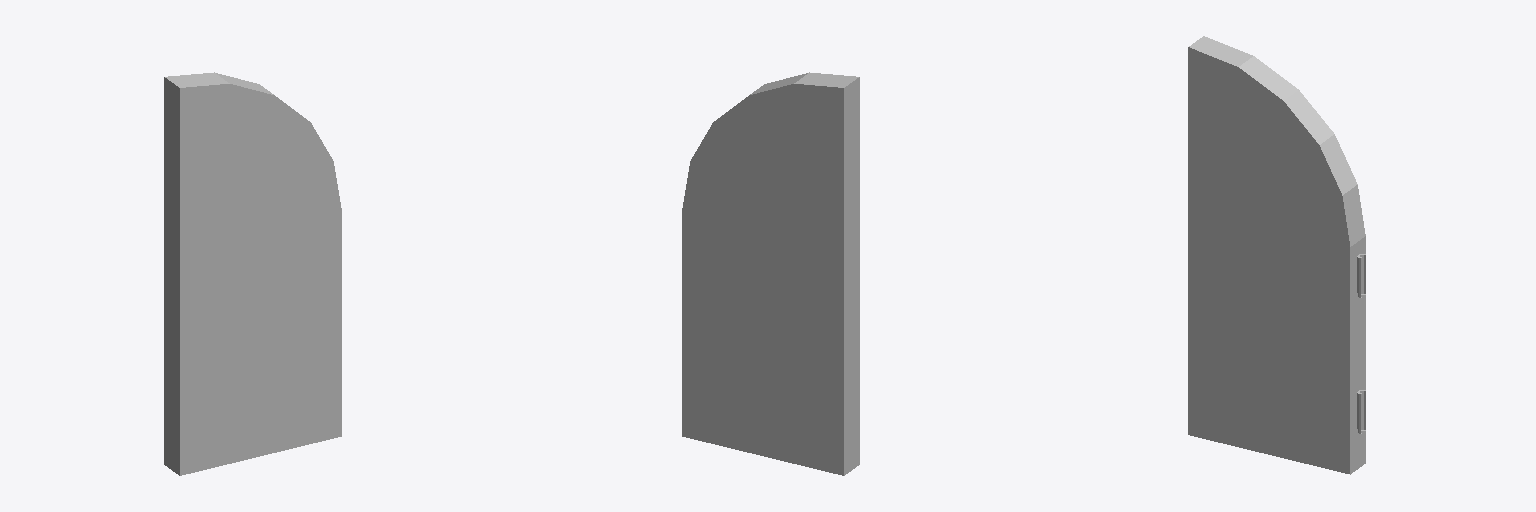
Rendered from castle_doorR.obj.
3 views of the same model, side by side, from view 1: azimuth 30°, elevation 25°; view 2: azimuth 150°, elevation 25°; view 3: azimuth 330°, elevation 25° (orthographic).
Parts seen in each view (by area): view 1: Towers_Doors_and_Windows.002; view 2: Towers_Doors_and_Windows.002; view 3: Towers_Doors_and_Windows.002.
Part boxes in pixels (left/top/right/bottom): Towers_Doors_and_Windows.002: left=164, top=72, right=341, bottom=475; Towers_Doors_and_Windows.002: left=682, top=72, right=859, bottom=475; Towers_Doors_and_Windows.002: left=1188, top=36, right=1365, bottom=474.
Size of the model in its own units: 3.25 by 7.18 by 0.5126.